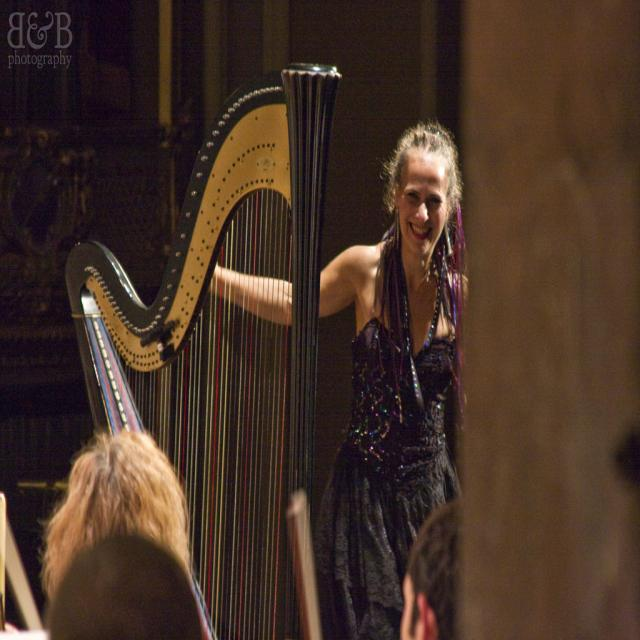harp: (63, 61, 348, 638)
